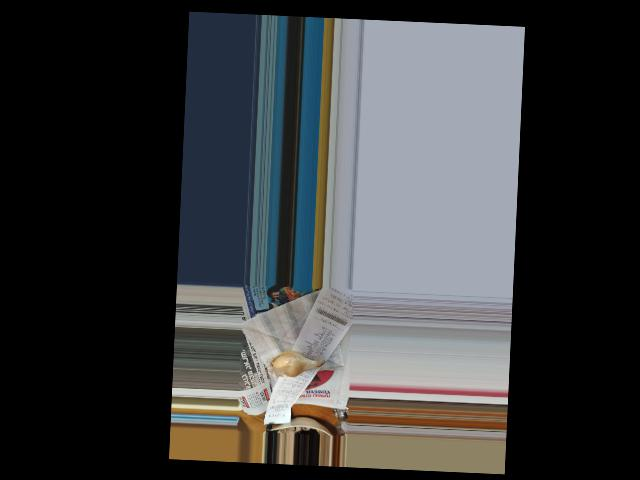onion: (270, 349, 309, 376)
